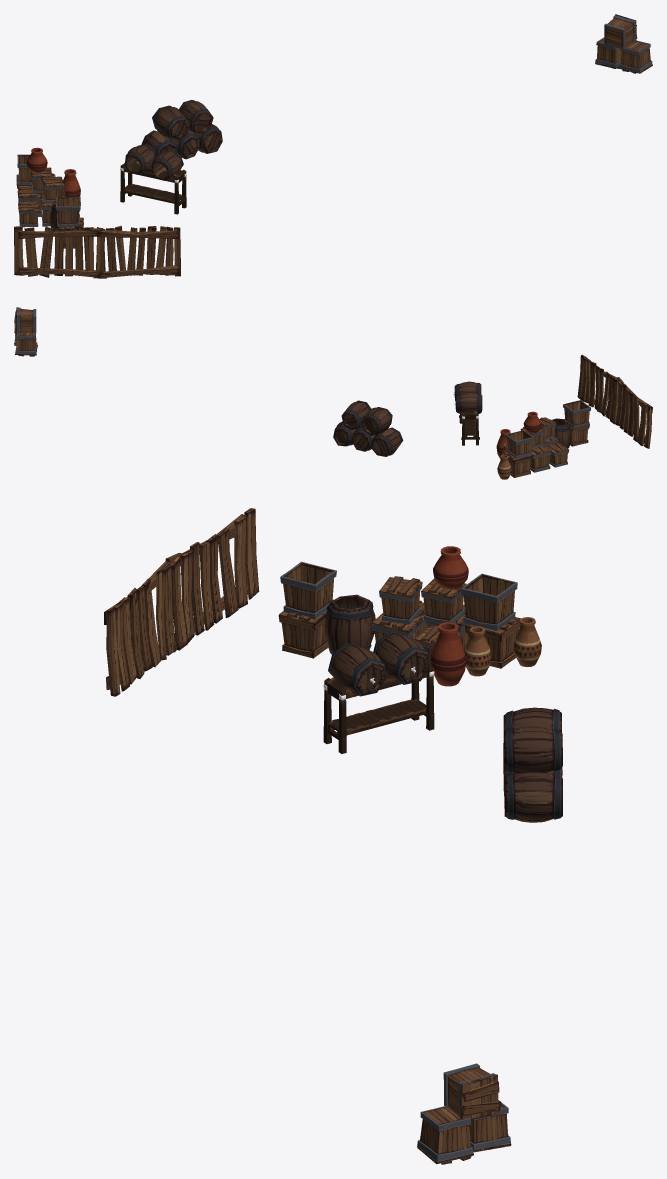
The model's file is RoomsObst3.fbx.
3 renders of one model, top to bottom at view 1: azimuth 30°, elevation 25°; view 2: azimuth 150°, elevation 25°; view 3: azimuth 270°, elevation 25°, orthographic. The views are drawn at different scales.
Visible parts, largest first — view 1: SM_PROP_woodbridge_dungeon_10.004, SM_PROP_barrel_dungeon_02.002, SM_PROP_barrel_dungeon_03.006, Barrel_Holder.001, SM_PROP_box_dungeon_04.004, SM_PROP_pot_dungeon_04.005; view 2: SM_PROP_barrel_dungeon_02.002, SM_PROP_woodbridge_dungeon_10.004, SM_PROP_barrel_dungeon_03.006, Barrel_Holder.001, SM_PROP_box_dungeon_04.004, SM_PROP_pot_dungeon_04.005; view 3: SM_PROP_barrel_dungeon_02.002, SM_PROP_woodbridge_dungeon_10.004, Barrel_Holder.001, SM_PROP_barrel_dungeon_03.006, SM_PROP_box_dungeon_04.004, SM_PROP_pot_dungeon_04.005.
Boxes of the visible parts, x1,y1,x2,y2 form: SM_PROP_woodbridge_dungeon_10.004: (14,225,180,278); SM_PROP_barrel_dungeon_02.002: (16,154,83,248); SM_PROP_barrel_dungeon_03.006: (141,100,222,159); Barrel_Holder.001: (120,144,186,214); SM_PROP_box_dungeon_04.004: (595,14,652,73); SM_PROP_pot_dungeon_04.005: (26,147,80,196); SM_PROP_barrel_dungeon_02.002: (504,400,590,477); SM_PROP_woodbridge_dungeon_10.004: (577,354,652,448); SM_PROP_barrel_dungeon_03.006: (333,400,403,456); Barrel_Holder.001: (453,381,482,445); SM_PROP_box_dungeon_04.004: (14,307,37,356); SM_PROP_pot_dungeon_04.005: (496,411,541,479); SM_PROP_barrel_dungeon_02.002: (278,561,520,668); SM_PROP_woodbridge_dungeon_10.004: (104,508,259,696); Barrel_Holder.001: (323,631,434,753); SM_PROP_barrel_dungeon_03.006: (503,707,562,822); SM_PROP_box_dungeon_04.004: (417,1063,511,1164); SM_PROP_pot_dungeon_04.005: (430,546,541,686).
Bounding box in the file's own units: 29.69 × 2.71 × 9.99.
9 materials, 8 textured.
